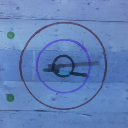Axe Tip: (50, 67, 61, 70)
